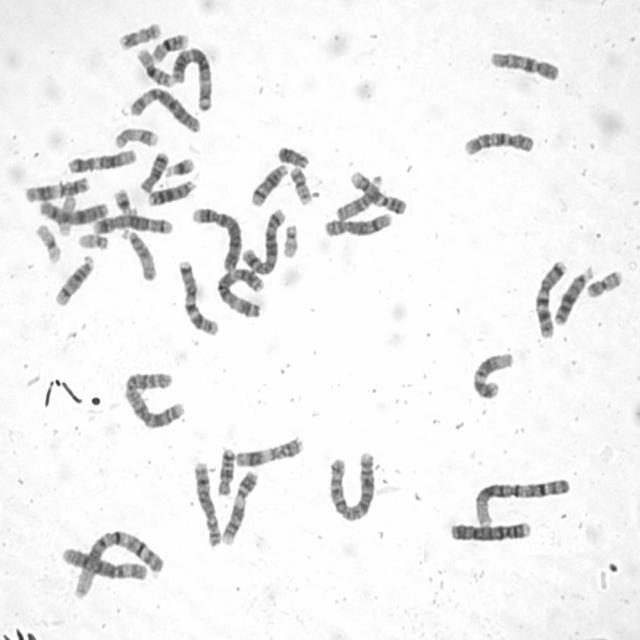A1: (68, 524, 165, 600), (470, 471, 572, 528)
A2: (119, 366, 187, 431), (323, 445, 378, 523)
A3: (168, 42, 214, 112), (213, 264, 266, 320)
B4: (188, 202, 244, 273), (447, 516, 533, 544)
B5: (238, 203, 286, 275), (89, 209, 174, 236)
C10: (485, 45, 562, 83), (458, 126, 536, 158)
C11: (231, 432, 306, 469), (20, 172, 91, 203)
C12: (469, 346, 515, 399), (64, 143, 138, 174)
C6: (126, 82, 202, 134), (58, 542, 149, 582)
C7: (173, 255, 220, 337), (530, 253, 569, 340)
C8: (189, 457, 222, 549), (320, 207, 394, 238)
C9: (217, 465, 260, 547), (346, 166, 408, 215)
D13: (550, 261, 595, 326), (144, 174, 197, 207)
D14: (50, 250, 96, 307), (247, 158, 290, 208)
D15: (331, 169, 385, 222), (117, 223, 158, 282)
E16: (132, 42, 174, 88), (148, 28, 190, 62)
E17: (114, 17, 162, 51), (110, 122, 160, 150)
E18: (136, 146, 170, 194), (214, 444, 236, 496)
F19: (31, 218, 63, 264), (54, 190, 78, 237)
F20: (582, 264, 624, 300), (286, 162, 313, 206)
G21: (161, 152, 195, 178), (110, 183, 136, 216)
G22: (278, 219, 300, 259), (74, 227, 110, 251)
X: (36, 194, 110, 226)
Y: (274, 140, 310, 170)
